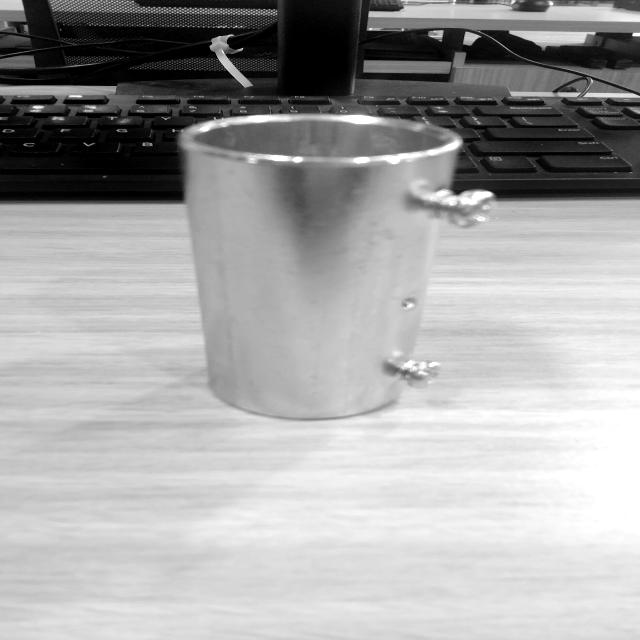Co_Lon: (180, 100, 506, 427)
